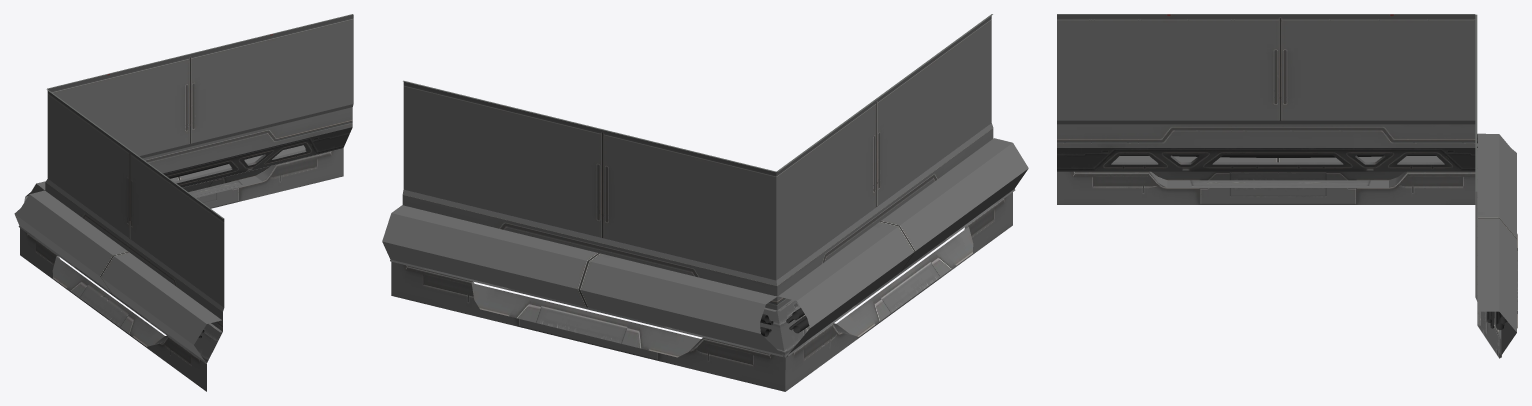
The model's file is TopCables_Corner_Square_Inner.glb.
3 renders of one model, left to right at view 1: azimuth 30°, elevation 25°; view 2: azimuth 150°, elevation 25°; view 3: azimuth 270°, elevation 25°, orthographic. The views are drawn at different scales.
Visible parts, largest first — view 1: TopCables_Corner_Square_Inner; view 2: TopCables_Corner_Square_Inner; view 3: TopCables_Corner_Square_Inner.
Boxes of the visible parts, x1,y1,x2,y2 form: TopCables_Corner_Square_Inner: (14,14,353,391); TopCables_Corner_Square_Inner: (382,14,1028,391); TopCables_Corner_Square_Inner: (1057,14,1517,358).
Size of the model in its own units: 4.17 by 2 by 4.17.
3 materials, 3 textured.
